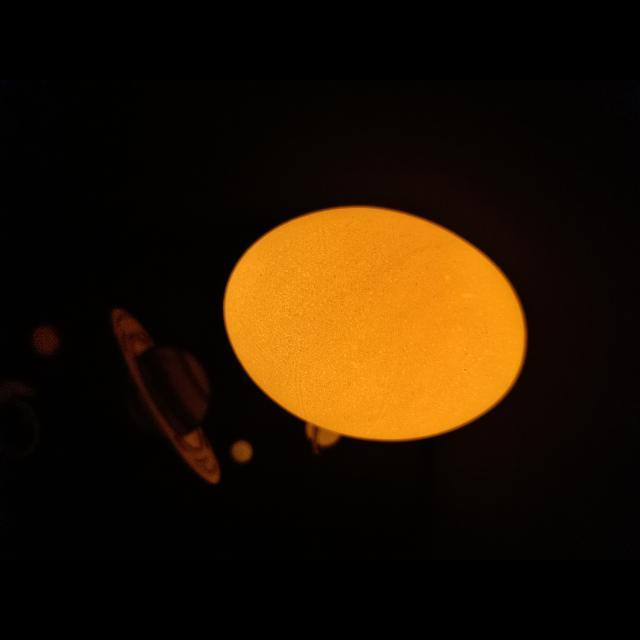AA - Premium: (224, 206, 526, 441)
